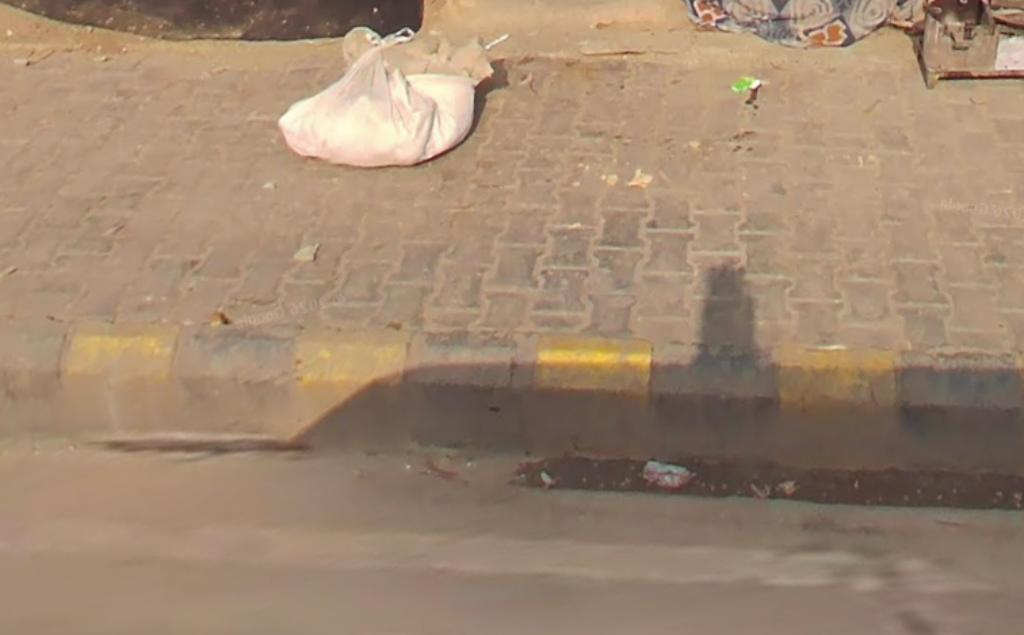garbage: (271, 15, 514, 171)
